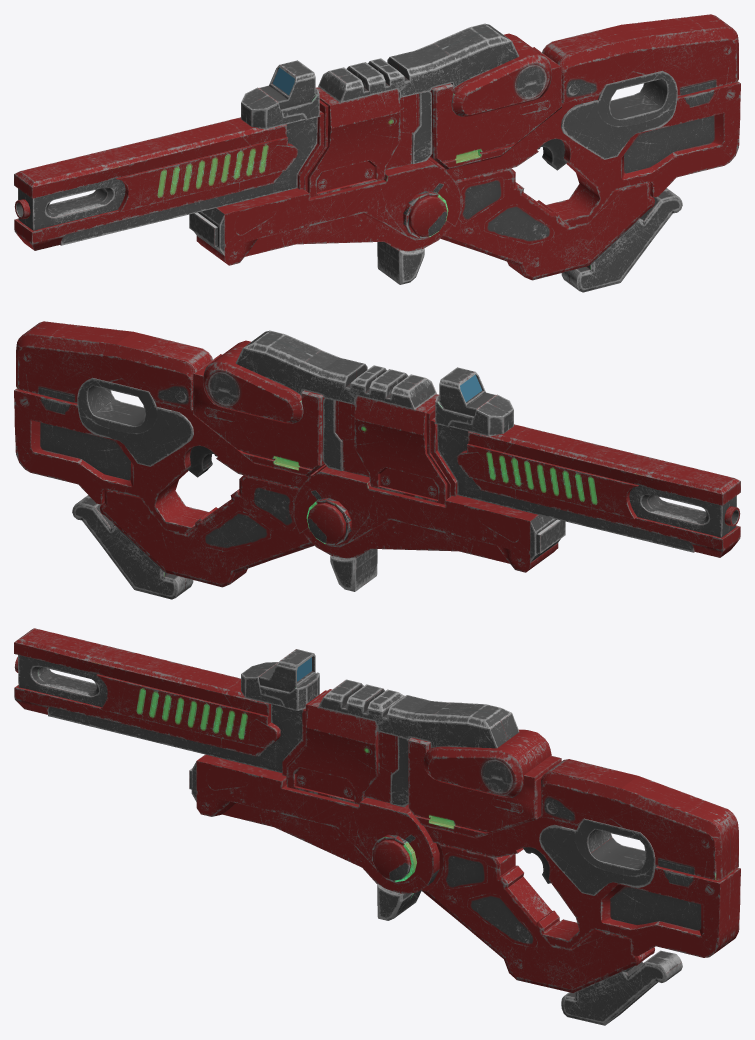
Rendered from gun.glb.
The picture shows the model from 3 angles, top to bottom: view 1: azimuth 30°, elevation 25°; view 2: azimuth 150°, elevation 25°; view 3: azimuth 330°, elevation 25°; orthographic projection.
Visible parts, largest first — view 1: Gun; view 2: Gun; view 3: Gun.
Boxes of the visible parts, x1,y1,x2,y2 form: Gun: [14, 14, 740, 292]; Gun: [14, 321, 740, 599]; Gun: [14, 628, 740, 1025].
Bounding box in the file's own units: 2.78 × 1.07 × 0.263.
Materials: 1 (1 with a texture image).
